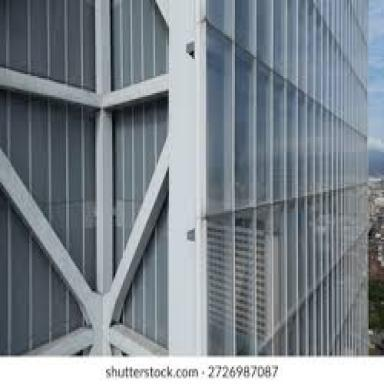glass_panel: (1, 0, 93, 89), (112, 0, 166, 93)
